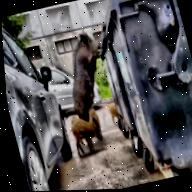boar: (51, 20, 125, 141), (68, 104, 108, 159), (85, 106, 110, 148)
